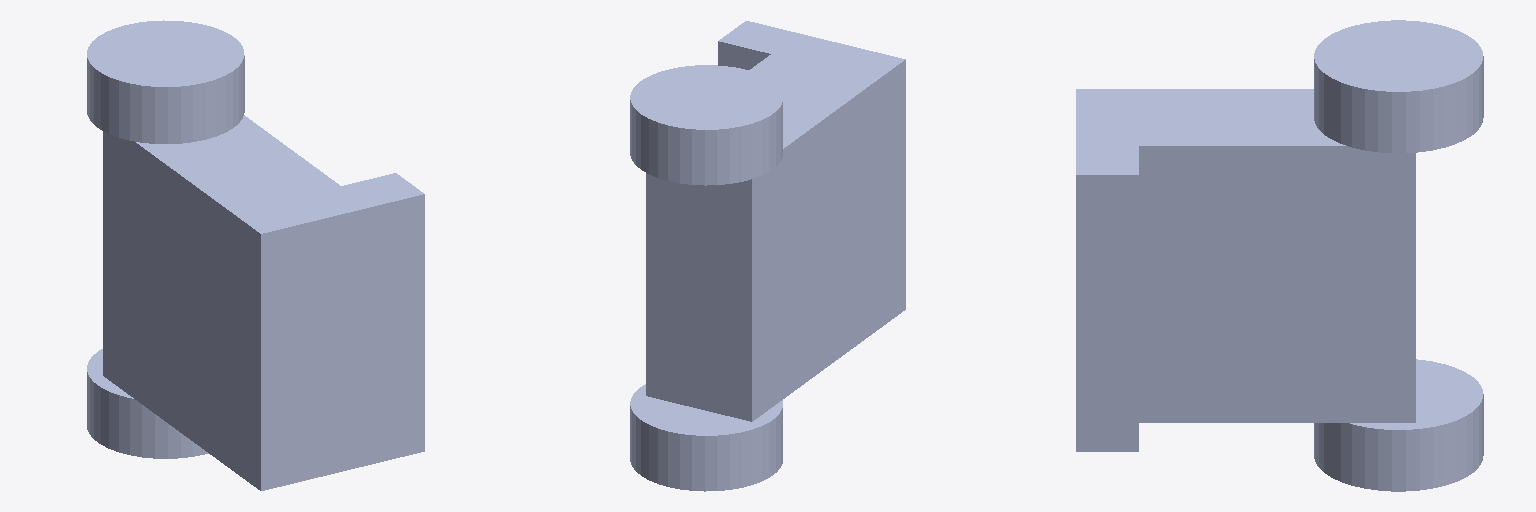
The robot description file, URDF, robot "balancing_robot":
<?xml version="1.0" encoding="utf-8"?>
<!-- This URDF was automatically created by SolidWorks to URDF Exporter! Originally created by Stephen Brawner (brawner@gmail.com) 
     Commit Version: 1.6.0-4-g7f85cfe  Build Version: 1.6.7995.38578
     For more information, please see http://wiki.ros.org/sw_urdf_exporter -->
<robot
  name="balancing_robot">
  <link
    name="base_link">
    <inertial>
      <origin
        xyz="0.002528 -0.053438 0"
        rpy="0 0 0" />
      <mass
        value="0.39313" />
      <inertia
        ixx="0.00061679"
        ixy="3.7129E-05"
        ixz="6.2992E-20"
        iyy="0.00034177"
        iyz="1.1526E-20"
        izz="0.00042783" />
    </inertial>
    <visual>
      <origin
        xyz="0 0 0"
        rpy="0 0 0" />
      <geometry>
        <mesh
          filename="package://balancing_robot/meshes/base_link.STL" />
      </geometry>
      <material
        name="">
        <color
          rgba="0.79216 0.81961 0.93333 1" />
      </material>
    </visual>
    <collision>
      <origin
        xyz="0 0 0"
        rpy="0 0 0" />
      <geometry>
        <mesh
          filename="package://balancing_robot/meshes/base_link.STL" />
      </geometry>
    </collision>
  </link>
  <link
    name="wheel_R">
    <inertial>
      <origin
        xyz="2.4156E-34 -8.6736E-19 -0.01"
        rpy="0 0 0" />
      <mass
        value="0.03927" />
      <inertia
        ixx="7.4449E-06"
        ixy="0"
        ixz="1.8972E-38"
        iyy="7.4449E-06"
        iyz="2.35E-38"
        izz="1.2272E-05" />
    </inertial>
    <visual>
      <origin
        xyz="0 0 0"
        rpy="0 0 0" />
      <geometry>
        <mesh
          filename="package://balancing_robot/meshes/wheel_R.STL" />
      </geometry>
      <material
        name="">
        <color
          rgba="0.79216 0.81961 0.93333 1" />
      </material>
    </visual>
    <collision>
      <origin
        xyz="0 0 0"
        rpy="0 0 0" />
      <geometry>
        <mesh
          filename="package://balancing_robot/meshes/wheel_R.STL" />
      </geometry>
    </collision>
  </link>
  <joint
    name="joint1"
    type="continuous">
    <origin
      xyz="0 -0.005 -0.045"
      rpy="0 0 3.1416" />
    <parent
      link="base_link" />
    <child
      link="wheel_R" />
    <axis
      xyz="0 0 1" />
    <limit
      effort="100"
      velocity="10" />
    <dynamics
      damping="0.001"
      friction="0" />
  </joint>
  <link
    name="wheel_L">
    <inertial>
      <origin
        xyz="-2.4156E-34 0 0.01"
        rpy="0 0 0" />
      <mass
        value="0.03927" />
      <inertia
        ixx="7.4449E-06"
        ixy="7.6468E-54"
        ixz="1.8972E-38"
        iyy="7.4449E-06"
        iyz="1.728E-37"
        izz="1.2272E-05" />
    </inertial>
    <visual>
      <origin
        xyz="0 0 0"
        rpy="0 0 0" />
      <geometry>
        <mesh
          filename="package://balancing_robot/meshes/wheel_L.STL" />
      </geometry>
      <material
        name="">
        <color
          rgba="0.79216 0.81961 0.93333 1" />
      </material>
    </visual>
    <collision>
      <origin
        xyz="0 0 0"
        rpy="0 0 0" />
      <geometry>
        <mesh
          filename="package://balancing_robot/meshes/wheel_L.STL" />
      </geometry>
    </collision>
  </link>
  <joint
    name="joint2"
    type="continuous">
    <origin
      xyz="0 -0.005 0.045"
      rpy="0 0 3.1416" />
    <parent
      link="base_link" />
    <child
      link="wheel_L" />
    <axis
      xyz="0 0 1" />
    <limit
      effort="100"
      velocity="10" />
    <dynamics
      damping="0.001"
      friction="0" />
  </joint>
</robot>

--- Render facts (derived) ---
3 views of the same robot in one strip: view 1: azimuth 30°, elevation 25°; view 2: azimuth 150°, elevation 25°; view 3: azimuth 270°, elevation 25° (orthographic).
Model balancing_robot with 3 links and 2 joints (2 continuous), rooted at base_link, posed every joint at zero.
Links seen in each view (by area): view 1: base_link, wheel_L, wheel_R; view 2: base_link, wheel_L, wheel_R; view 3: base_link, wheel_L, wheel_R.
Boxes of the visible links, bbox=[...] form: base_link: bbox=[103, 115, 424, 490]; wheel_L: bbox=[87, 20, 244, 143]; wheel_R: bbox=[87, 349, 208, 458]; base_link: bbox=[646, 21, 905, 421]; wheel_L: bbox=[630, 65, 782, 185]; wheel_R: bbox=[630, 384, 782, 491]; base_link: bbox=[1076, 89, 1415, 451]; wheel_L: bbox=[1314, 20, 1483, 152]; wheel_R: bbox=[1314, 359, 1483, 491].
Bounding box of the posed robot: 0.0649 × 0.12 × 0.13 m (x, y, z).
Meshes: 3 distinct files referenced, 3 mesh visuals loaded (3 binary STL).
